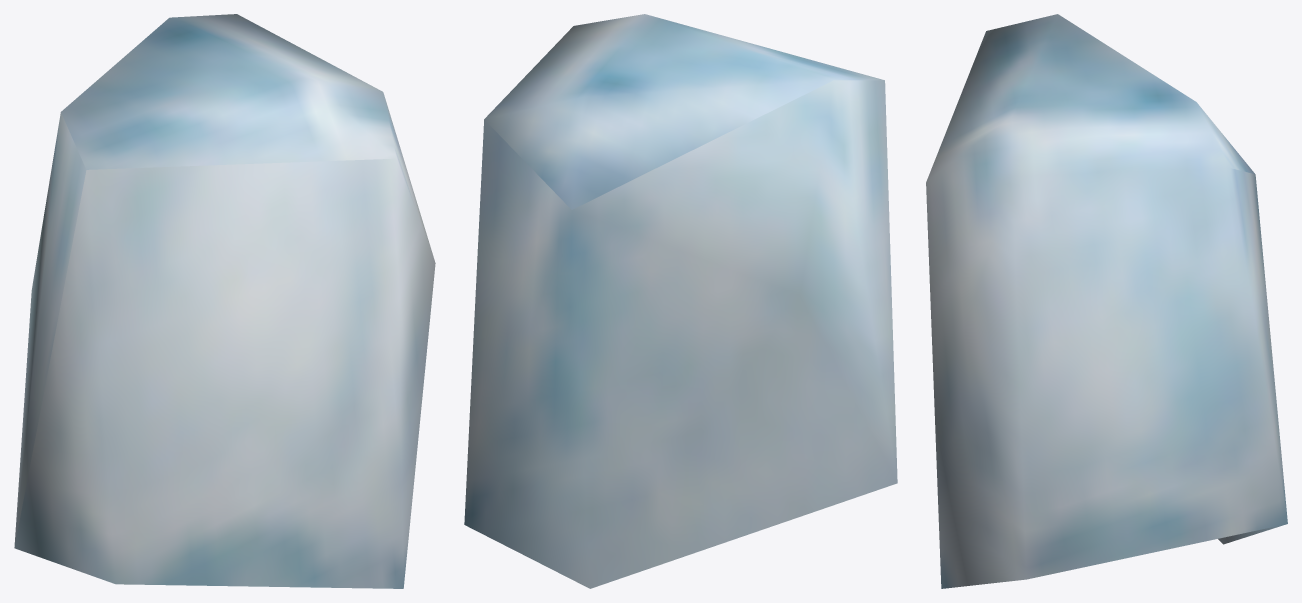
File: SM_stoneC_01.fbx
3 renders of one model, left to right at view 1: azimuth 30°, elevation 25°; view 2: azimuth 150°, elevation 25°; view 3: azimuth 270°, elevation 25°, orthographic. The views are drawn at different scales.
Visible parts, largest first — view 1: SM_stoneC_01; view 2: SM_stoneC_01; view 3: SM_stoneC_01.
Boxes of the visible parts, bbox=[...] form: SM_stoneC_01: bbox=[14, 14, 435, 588]; SM_stoneC_01: bbox=[464, 14, 897, 588]; SM_stoneC_01: bbox=[926, 14, 1287, 588].
Bounding box in the file's own units: 3.07 × 3.9 × 2.79.
